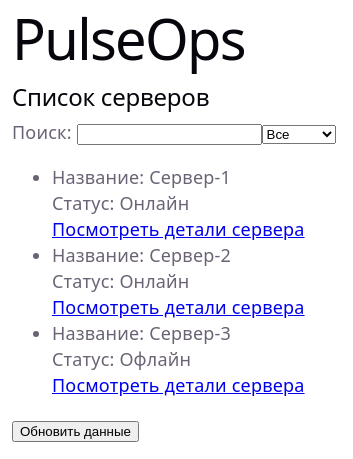
Поиск по названию оставляет подходящий сервер и скрывает остальные
Check: the text "Название: Сервер-1" is shown, box left=52, top=164, right=231, bottom=188
Check: the text "Название: Сервер-2" is shown, box left=52, top=243, right=231, bottom=267
Type "сервер-1" into the field labelled "Поиск:" at (169, 135), box left=77, top=124, right=262, bottom=145
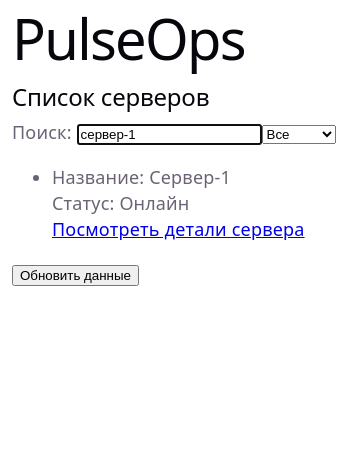
Check: the text "Название: Сервер-1" is shown, box left=52, top=164, right=231, bottom=188
Check: the text "Название: Сервер-2" is gone
